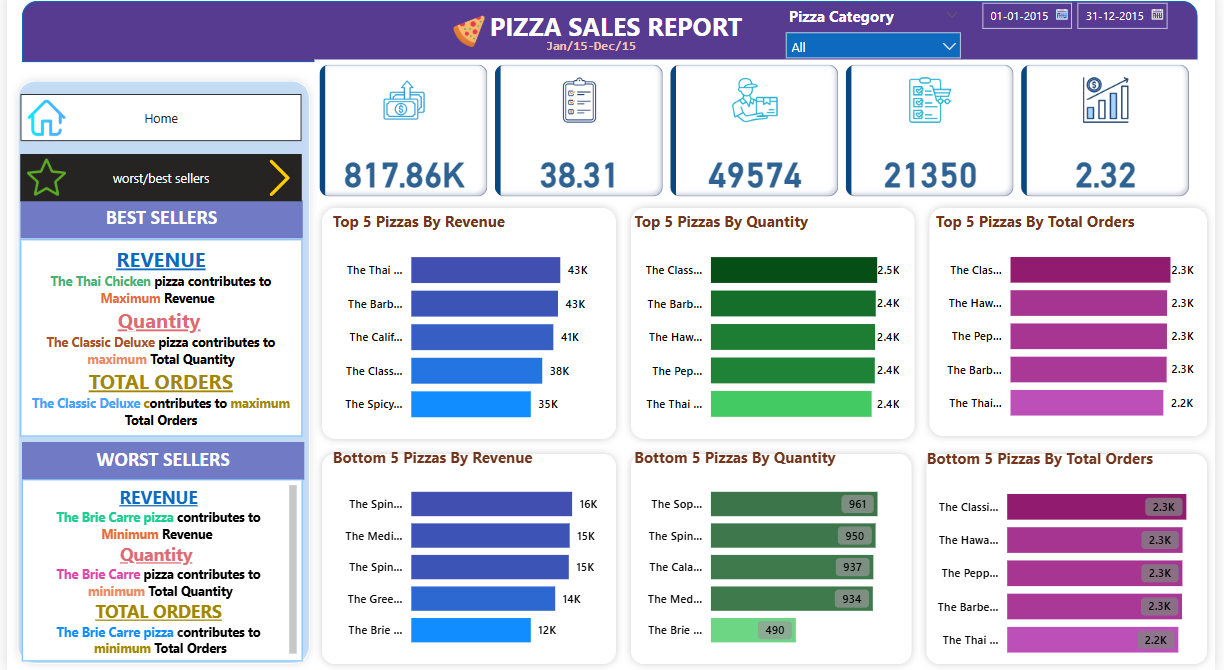

Layout of this report page (visuals, bound fields, positions):
{"tool":"powerbi","page":{"name":"worst/best sellers","canvas":[1280,720],"ordinal":1},"visuals":[{"type":"shape","box":[16.7,10,1246.7,65],"z":0},{"type":"cardVisual","fields":{"Data":["pizza_sales.total revenue","pizza_sales.Avg Order value","pizza_sales.total Pizzas sold","pizza_sales.total order","pizza_sales.Avg pizzas per order"]},"box":[326.7,71.7,936.7,150],"z":1000},{"type":"textbox","box":[566.3,41.4,130.4,28.6],"z":2000},{"type":"textbox","box":[496.3,12.7,299,47.7],"z":3000},{"type":"image","box":[461.7,18.3,56.7,45],"z":4000},{"type":"shape","box":[326.1,221.1,327.7,260.9],"z":5000},{"type":"shape","title":"Bottom 5 Pizzas By Revenue","box":[653.7,221.1,316.5,260.9],"z":6000},{"type":"shape","box":[3.2,85.9,326.1,634.7],"z":7000},{"type":"shape","box":[970.3,221.1,310.2,257.7],"z":8000},{"type":"textbox","box":[14.3,221.1,299,39.8],"z":9000},{"type":"textbox","box":[15,261.7,298.3,208.3],"z":10000},{"type":"textbox","box":[15.9,477.2,299,39.8],"z":11000},{"type":"textbox","box":[15.9,516.9,297.4,192.5],"z":12000},{"type":"slicer","fields":{"Values":["pizza_sales.pizza_category"]},"box":[816,9.5,205.2,62],"z":13000},{"type":"slicer","fields":{"Values":["pizza_sales.order_date"]},"box":[1021.2,1.6,241.8,70],"z":14000},{"type":"shape","box":[326.1,482,327.7,238.6],"z":15000},{"type":"shape","box":[653.7,482,313.4,238.6],"z":16000},{"type":"shape","box":[967.1,482,313.4,238.6],"z":17000},{"type":"barChart","title":"Top 5 Pizzas By Revenue","fields":{"Category":["pizza_sales.pizza_name"],"Y":["pizza_sales.total revenue"]},"box":[340.4,232.2,299,238.6],"z":18000},{"type":"barChart","title":"Bottom 5 Pizzas By Revenue","fields":{"Category":["pizza_sales.pizza_name"],"Y":["pizza_sales.total revenue"]},"box":[340,481.7,301.7,226.7],"z":19000},{"type":"barChart","title":"Top 5 Pizzas By Quantity","fields":{"Category":["pizza_sales.pizza_name"],"Y":["pizza_sales.total Pizzas sold"]},"box":[659.5,232.4,291,238.1],"z":20000},{"type":"barChart","title":"Bottom 5 Pizzas By Quantity","fields":{"Category":["pizza_sales.pizza_name"],"Y":["pizza_sales.total Pizzas sold"]},"box":[660,481.7,291.7,226.7],"z":21000},{"type":"barChart","title":"Top 5 Pizzas By Total Orders","fields":{"Category":["pizza_sales.pizza_name"],"Y":["pizza_sales.total order"]},"box":[980,231.7,283.3,236.7],"z":22000},{"type":"barChart","title":"Bottom 5 Pizzas By Total Orders","fields":{"Category":["pizza_sales.pizza_name"],"Y":["pizza_sales.total order"]},"box":[970,483.3,310,236.7],"z":23000},{"type":"pageNavigator","box":[15,108.3,298.3,50],"z":24000},{"type":"pageNavigator","box":[15,171.7,298.3,50],"z":25000},{"type":"image","box":[261.7,171.7,53.3,50],"z":26000},{"type":"image","box":[16.7,108.3,51.7,50],"z":27000},{"type":"image","box":[16.7,166.7,51.7,58.3],"z":28000}]}

Visuals, with their boxes in screenshot pixels (x1, y1, x2, y2), scaled from the page's 1280x720 canvas onto the 1224x670 screenshot:
shape: <bbox>16, 9, 1208, 70</bbox>
cardVisual - pizza_sales.total revenue x pizza_sales.Avg Order value: <bbox>312, 67, 1208, 206</bbox>
textbox: <bbox>542, 39, 666, 65</bbox>
textbox: <bbox>475, 12, 761, 56</bbox>
image: <bbox>442, 17, 496, 59</bbox>
shape: <bbox>312, 206, 625, 449</bbox>
"Bottom 5 Pizzas By Revenue" shape: <bbox>625, 206, 928, 449</bbox>
shape: <bbox>3, 80, 315, 669</bbox>
shape: <bbox>928, 206, 1223, 446</bbox>
textbox: <bbox>14, 206, 300, 243</bbox>
textbox: <bbox>14, 244, 300, 437</bbox>
textbox: <bbox>15, 444, 301, 481</bbox>
textbox: <bbox>15, 481, 300, 660</bbox>
slicer - pizza_sales.pizza_category: <bbox>780, 9, 977, 67</bbox>
slicer - pizza_sales.order_date: <bbox>977, 1, 1208, 67</bbox>
shape: <bbox>312, 449, 625, 669</bbox>
shape: <bbox>625, 449, 925, 669</bbox>
shape: <bbox>925, 449, 1223, 669</bbox>
"Top 5 Pizzas By Revenue" barChart: <bbox>326, 216, 611, 438</bbox>
"Bottom 5 Pizzas By Revenue" barChart: <bbox>325, 448, 614, 659</bbox>
"Top 5 Pizzas By Quantity" barChart: <bbox>631, 216, 909, 438</bbox>
"Bottom 5 Pizzas By Quantity" barChart: <bbox>631, 448, 910, 659</bbox>
"Top 5 Pizzas By Total Orders" barChart: <bbox>937, 216, 1208, 436</bbox>
"Bottom 5 Pizzas By Total Orders" barChart: <bbox>928, 450, 1223, 669</bbox>
pageNavigator: <bbox>14, 101, 300, 147</bbox>
pageNavigator: <bbox>14, 160, 300, 206</bbox>
image: <bbox>250, 160, 301, 206</bbox>
image: <bbox>16, 101, 65, 147</bbox>
image: <bbox>16, 155, 65, 209</bbox>
